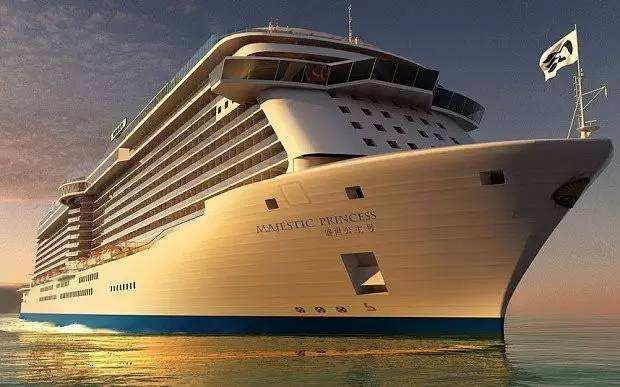youlun: (17, 14, 616, 340)
